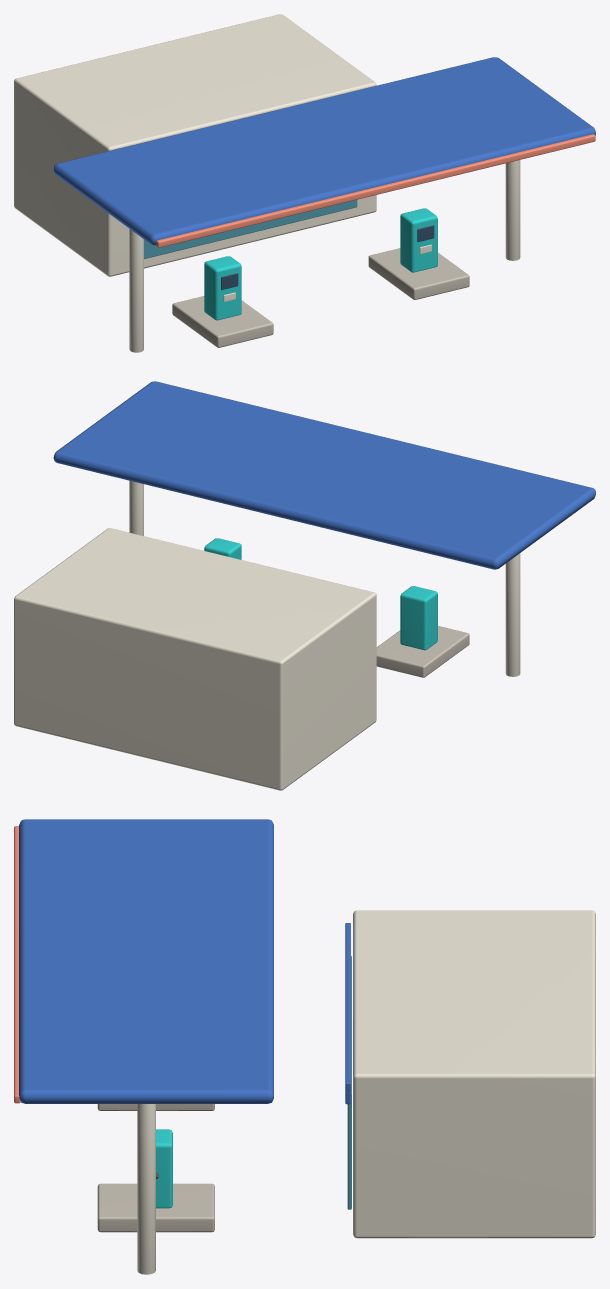
Rendered from HL_Building_FuelStation.fbx.
The picture shows the model from 3 angles, top to bottom: view 1: azimuth 30°, elevation 25°; view 2: azimuth 150°, elevation 25°; view 3: azimuth 270°, elevation 25°; orthographic projection. The views are drawn at different scales.
Visible parts, largest first — view 1: Fuel | broad floating canopy, Fuel | kiosk shell, Fuel | coral canopy trim, Fuel | island, Fuel | island.001, Fuel | two-sided dispenser.001, Fuel | two-sided dispenser, Fuel | kiosk glass, Fuel | canopy column, Fuel | canopy column.001; view 2: Fuel | kiosk shell, Fuel | broad floating canopy, Fuel | island, Fuel | two-sided dispenser, Fuel | canopy column, Fuel | canopy column.001, Fuel | two-sided dispenser.001; view 3: Fuel | kiosk shell, Fuel | broad floating canopy, Fuel | island.001, Fuel | canopy column.001, Fuel | coral canopy trim, Fuel | two-sided dispenser.001, Fuel | kiosk cobalt band, Fuel | island, Fuel | kiosk glass.
Part boxes in pixels (x1,y1,x2,y2): Fuel | broad floating canopy: (53,57,595,245); Fuel | kiosk shell: (14,14,376,276); Fuel | coral canopy trim: (156,134,595,247); Fuel | island: (172,296,273,347); Fuel | island.001: (368,248,469,299); Fuel | two-sided dispenser.001: (400,208,437,272); Fuel | two-sided dispenser: (204,256,241,320); Fuel | kiosk glass: (144,199,357,258); Fuel | canopy column: (129,229,143,352); Fuel | canopy column.001: (505,160,520,260); Fuel | kiosk shell: (14,528,376,790); Fuel | broad floating canopy: (53,381,595,569); Fuel | island: (376,626,469,677); Fuel | two-sided dispenser: (400,586,437,650); Fuel | canopy column: (505,553,520,676); Fuel | canopy column.001: (129,480,143,535); Fuel | two-sided dispenser.001: (204,538,241,559); Fuel | kiosk shell: (353,910,595,1238); Fuel | broad floating canopy: (19,819,273,1103); Fuel | island.001: (97,1183,214,1232); Fuel | canopy column.001: (137,1104,155,1274); Fuel | coral canopy trim: (14,826,20,1103); Fuel | two-sided dispenser.001: (156,1129,172,1208); Fuel | kiosk cobalt band: (345,923,350,1104); Fuel | island: (97,1104,214,1110); Fuel | kiosk glass: (347,956,351,1209).
Bounding box in the file's own units: 1340 × 460 × 1198.
